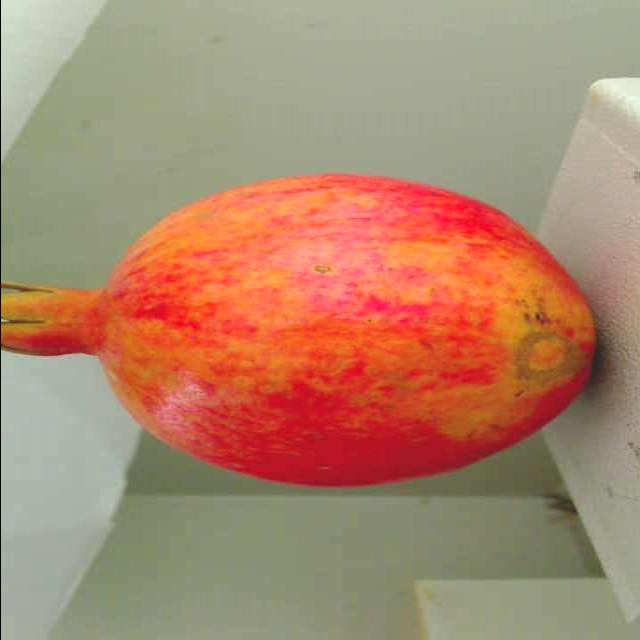pomegranate: (0, 163, 612, 509)
